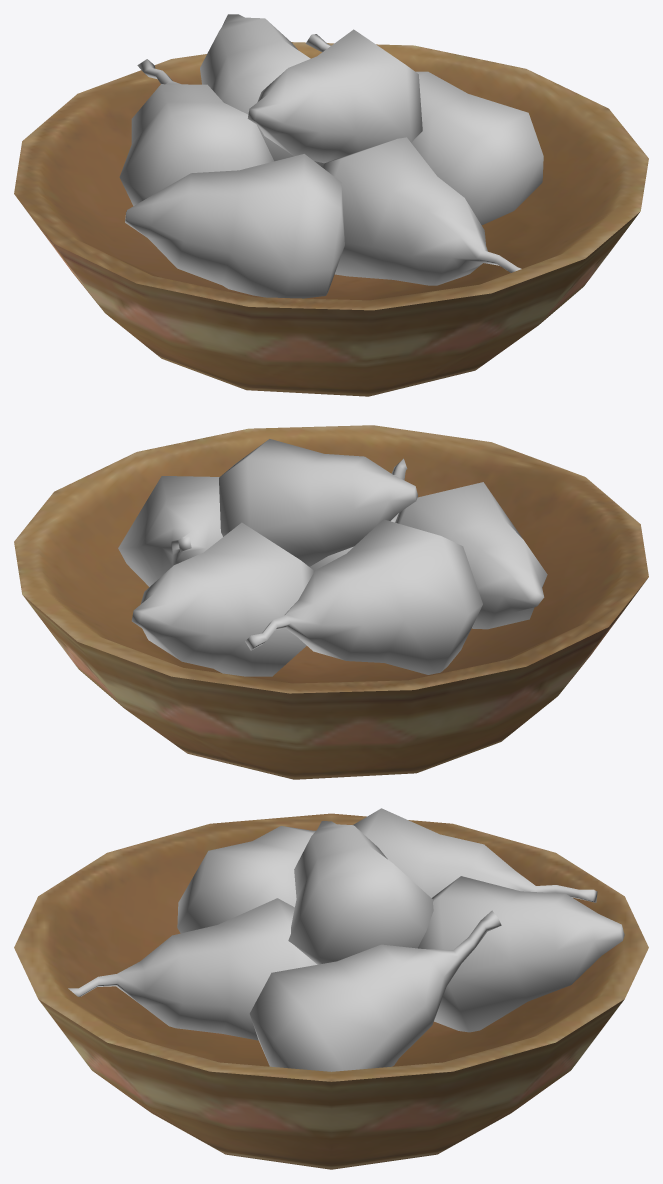
The model's file is Homeworld_Interior_Xm_Decoration_Prop_Fruitplate_01_Vo.fbx.
The picture shows the model from 3 angles, top to bottom: view 1: azimuth 30°, elevation 25°; view 2: azimuth 150°, elevation 25°; view 3: azimuth 270°, elevation 25°; orthographic projection.
Visible parts, largest first — view 1: Indoor_Xm_Prop_Czj_Decoration_08_Vo; view 2: Indoor_Xm_Prop_Czj_Decoration_08_Vo; view 3: Indoor_Xm_Prop_Czj_Decoration_08_Vo.
Boxes of the visible parts, left/top/right/bottom form: Indoor_Xm_Prop_Czj_Decoration_08_Vo: left=14, top=14, right=648, bottom=396; Indoor_Xm_Prop_Czj_Decoration_08_Vo: left=14, top=425, right=648, bottom=779; Indoor_Xm_Prop_Czj_Decoration_08_Vo: left=14, top=808, right=648, bottom=1169.
Bounding box in the file's own units: 0.4806 × 0.2089 × 0.4806.
